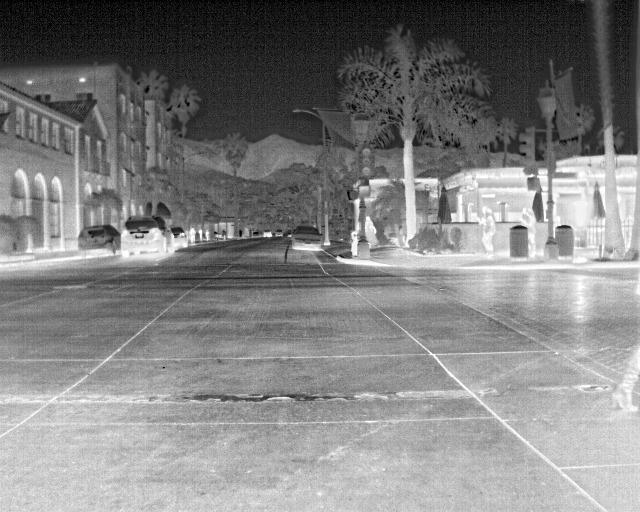bicycle: (118, 214, 173, 258), (76, 223, 121, 260), (289, 224, 325, 252), (172, 226, 188, 248)
empty: (481, 207, 497, 256), (520, 205, 537, 251), (363, 213, 379, 247), (187, 225, 197, 246)
